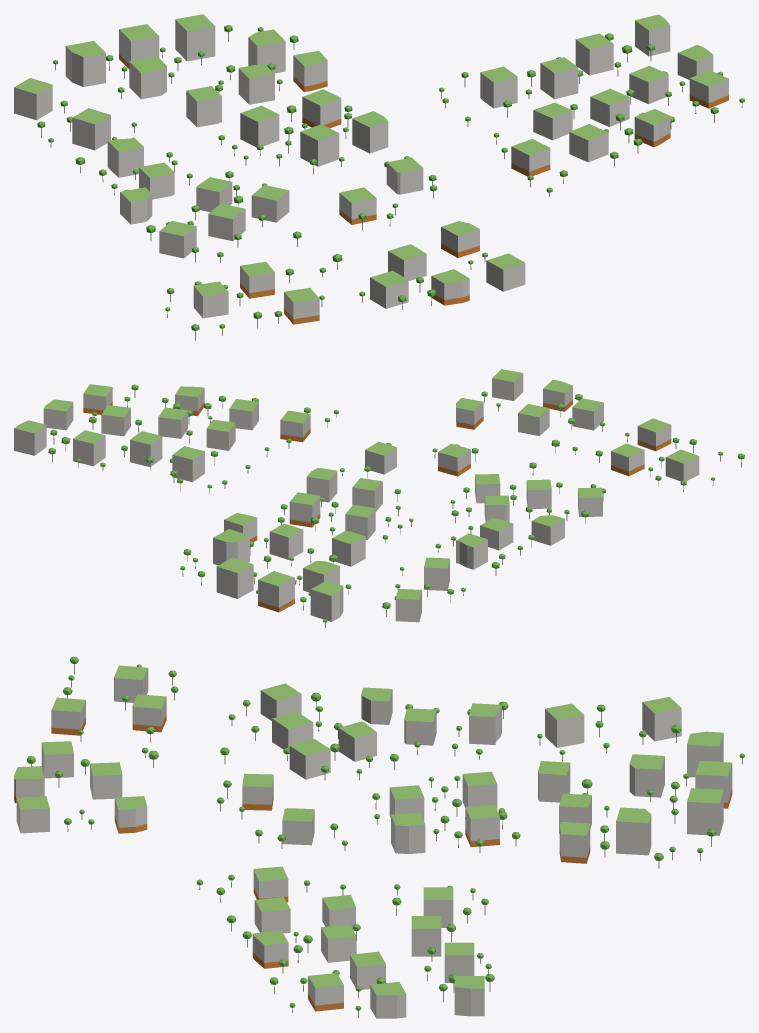
The picture shows the model from 3 angles, top to bottom: view 1: azimuth 30°, elevation 25°; view 2: azimuth 150°, elevation 25°; view 3: azimuth 270°, elevation 25°; orthographic projection. The views are drawn at different scales.
Parts seen in each view (by area): view 1: V3_P3_wohnen, V3_P2_wohnen, V3_P1_wohnen, V3_P4_wohnen, V3_P3_dach, V3_P1_dach, V3_P2_dach, V3_P4_dach, V3_P3_baeume, V3_P2_baeume, V3_P1_baeume, V3_P4_baeume (+2 smaller); view 2: V3_P2_wohnen, V3_P1_wohnen, V3_P3_wohnen, V3_P4_wohnen, V3_P3_dach, V3_P1_dach, V3_P2_dach, V3_P4_dach, V3_P3_baeume, V3_P2_baeume, V3_P1_baeume, V3_P4_baeume (+2 smaller); view 3: V3_P3_wohnen, V3_P1_wohnen, V3_P2_wohnen, V3_P4_wohnen, V3_P3_dach, V3_P1_dach, V3_P2_dach, V3_P4_dach, V3_P3_baeume, V3_P2_baeume, V3_P1_baeume, V3_P4_baeume (+2 smaller).
Boxes of the visible parts, x1,y1,x2,y2 form: V3_P3_wohnen: (159, 53, 728, 258); V3_P2_wohnen: (107, 20, 670, 224); V3_P1_wohnen: (14, 20, 327, 150); V3_P4_wohnen: (193, 227, 525, 318); V3_P3_dach: (159, 45, 728, 236); V3_P1_dach: (14, 14, 327, 124); V3_P2_dach: (108, 14, 669, 202); V3_P4_dach: (194, 221, 524, 302); V3_P3_baeume: (146, 71, 744, 262); V3_P2_baeume: (75, 33, 654, 195); V3_P1_baeume: (37, 25, 298, 147); V3_P4_baeume: (165, 252, 487, 340); V3_P2_wohnen: (14, 425, 564, 569); V3_P1_wohnen: (213, 518, 449, 622); V3_P3_wohnen: (43, 387, 602, 521); V3_P4_wohnen: (456, 373, 699, 481); V3_P3_dach: (44, 384, 602, 505); V3_P1_dach: (213, 513, 449, 599); V3_P2_dach: (14, 420, 564, 547); V3_P4_dach: (456, 369, 698, 463); V3_P3_baeume: (89, 384, 606, 523); V3_P2_baeume: (48, 429, 534, 575); V3_P1_baeume: (180, 538, 465, 627); V3_P4_baeume: (481, 391, 744, 491); V3_P3_wohnen: (242, 690, 406, 1018); V3_P1_wohnen: (538, 702, 732, 857); V3_P2_wohnen: (361, 690, 501, 1016); V3_P4_wohnen: (14, 668, 166, 833); V3_P3_dach: (242, 683, 405, 994); V3_P1_dach: (538, 697, 731, 835); V3_P2_dach: (361, 687, 501, 988); V3_P4_dach: (14, 665, 166, 809); V3_P3_baeume: (196, 692, 398, 1017); V3_P2_baeume: (372, 701, 520, 1002); V3_P1_baeume: (537, 704, 744, 868); V3_P4_baeume: (27, 656, 178, 831).
Size of the model in its own units: 524 by 22.8 by 467.
